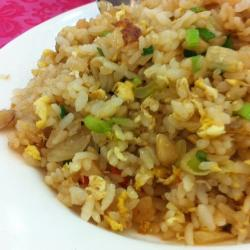rice: (59, 44, 234, 216)
